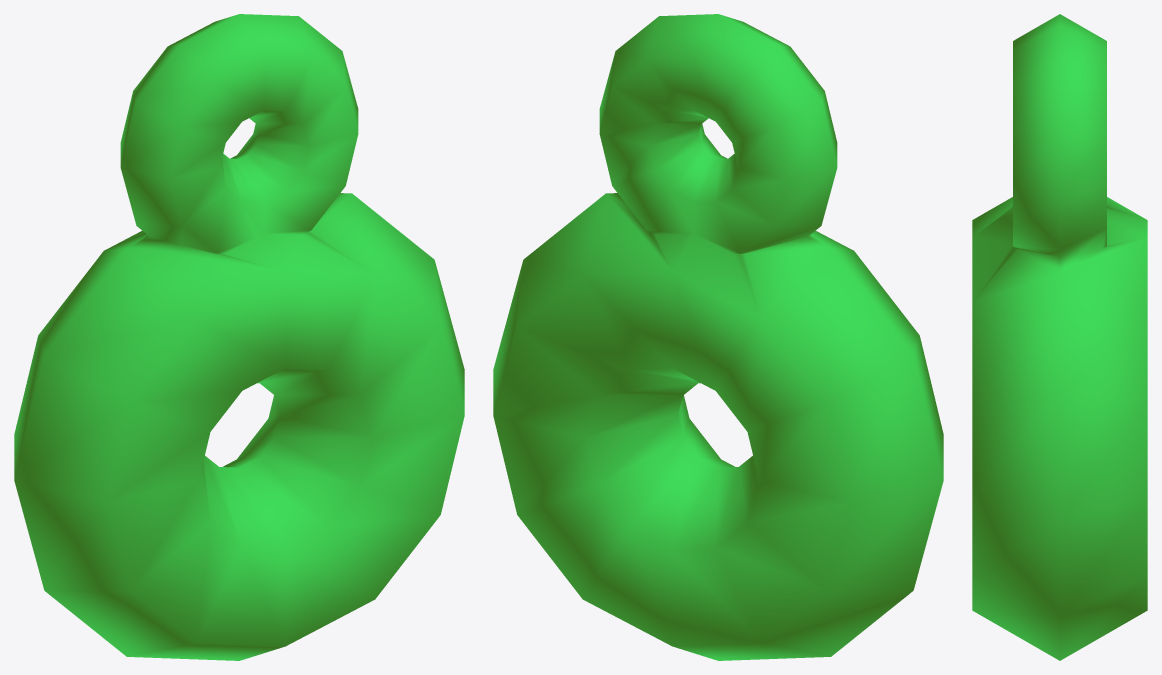
Rendered from jade_ring.gltf.
3 views of the same model, side by side, from view 1: azimuth 30°, elevation 25°; view 2: azimuth 150°, elevation 25°; view 3: azimuth 270°, elevation 25° (orthographic). The views are drawn at different scales.
Parts seen in each view (by area): view 1: CSGTorus3D2; view 2: CSGTorus3D2; view 3: CSGTorus3D2.
Boxes of the visible parts, x1,y1,x2,y2 form: CSGTorus3D2: (14, 14, 464, 660); CSGTorus3D2: (493, 14, 943, 660); CSGTorus3D2: (972, 14, 1147, 660).
Size of the model in its own units: 0.322 by 0.4417 by 0.1143.
